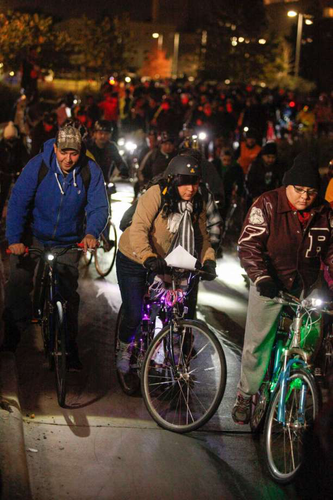bikerider: (88, 146, 238, 432), (229, 162, 333, 482), (6, 126, 113, 413)
